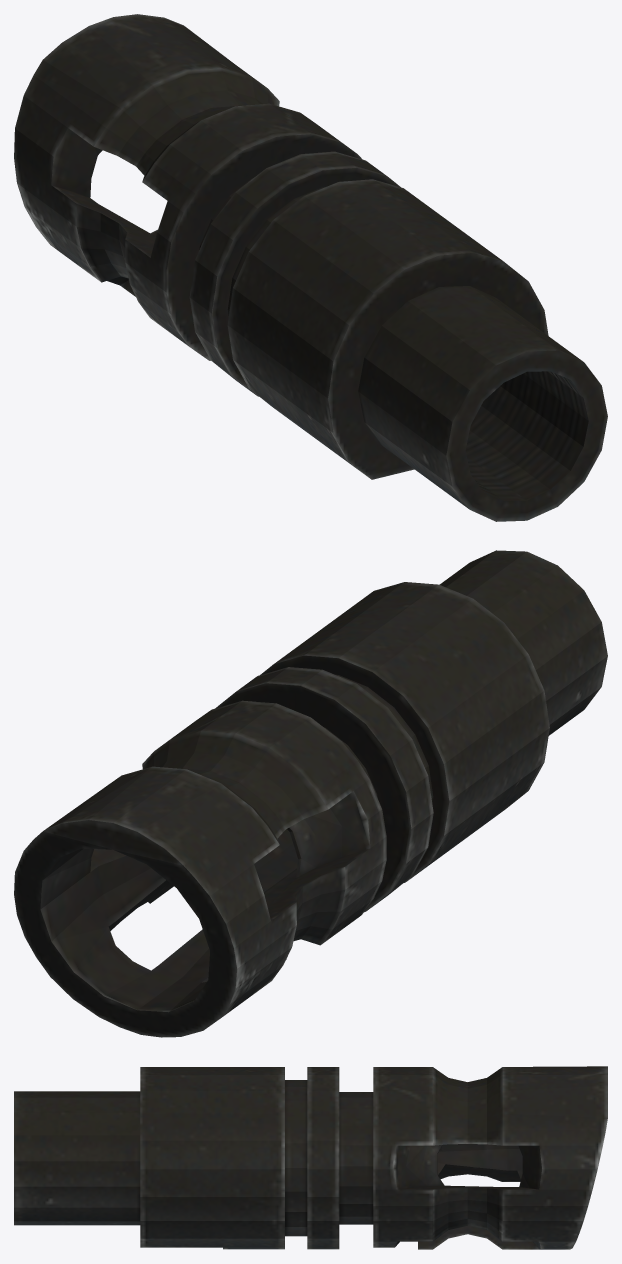
The picture shows the model from 3 angles, top to bottom: view 1: azimuth 30°, elevation 25°; view 2: azimuth 150°, elevation 25°; view 3: azimuth 270°, elevation 25°; orthographic projection. The views are drawn at different scales.
Parts seen in each view (by area): view 1: TW_5cc82796e24e8d000f5859a8_PZ_Import; view 2: TW_5cc82796e24e8d000f5859a8_PZ_Import; view 3: TW_5cc82796e24e8d000f5859a8_PZ_Import.
Boxes of the visible parts, left/top/right/bottom form: TW_5cc82796e24e8d000f5859a8_PZ_Import: left=14, top=14, right=607, bottom=521; TW_5cc82796e24e8d000f5859a8_PZ_Import: left=14, top=550, right=607, bottom=1037; TW_5cc82796e24e8d000f5859a8_PZ_Import: left=14, top=1066, right=607, bottom=1249.
Size of the model in its own units: 0.012 by 0.0386 by 0.012.
Materials: 1 (1 with a texture image).
